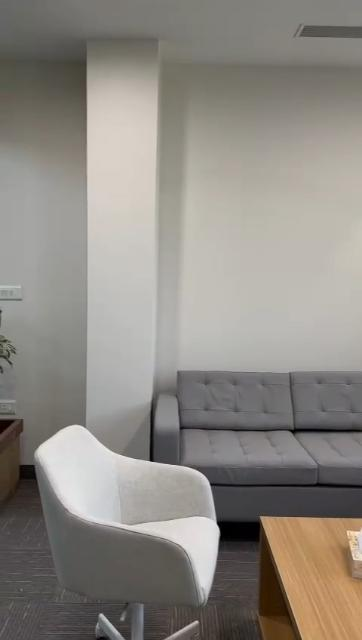floor: (4, 516, 44, 640)
object: (43, 424, 217, 640), (154, 349, 362, 516), (244, 508, 362, 640), (0, 330, 32, 512)
wall: (22, 69, 362, 369)
